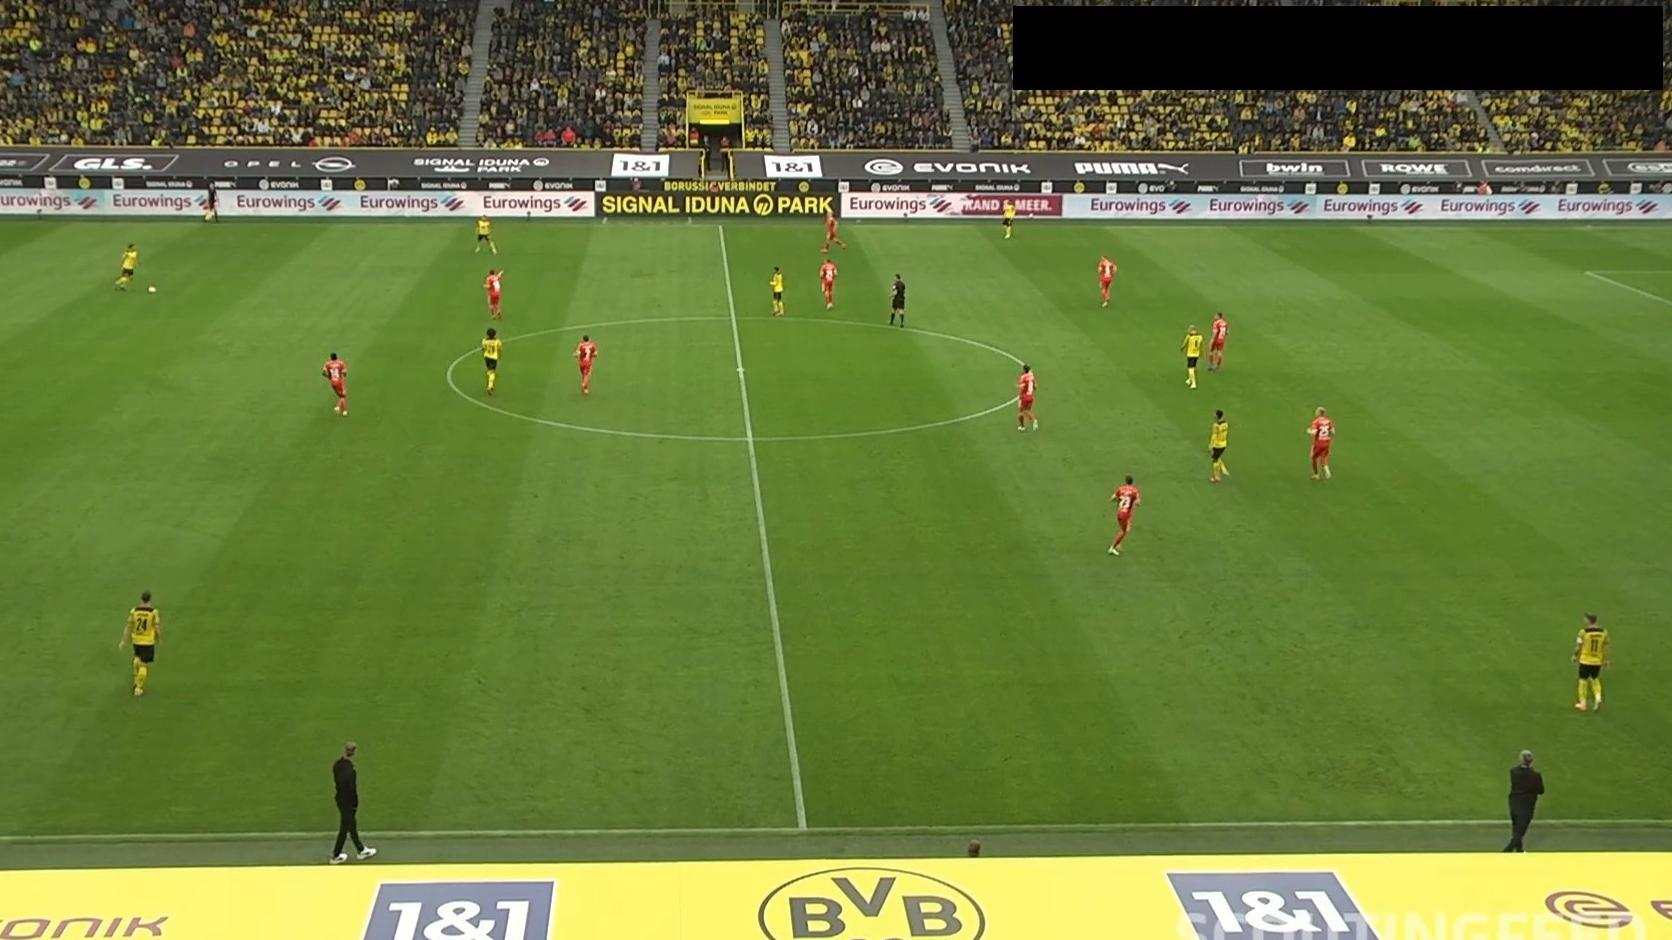ball: (147, 283, 158, 295)
